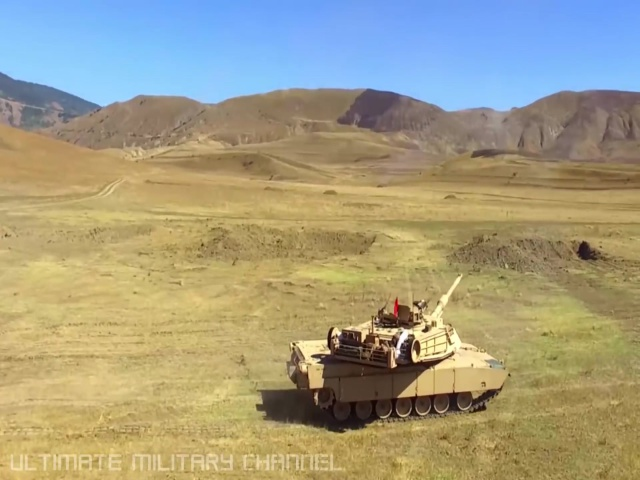vehicle: (290, 302, 509, 422)
